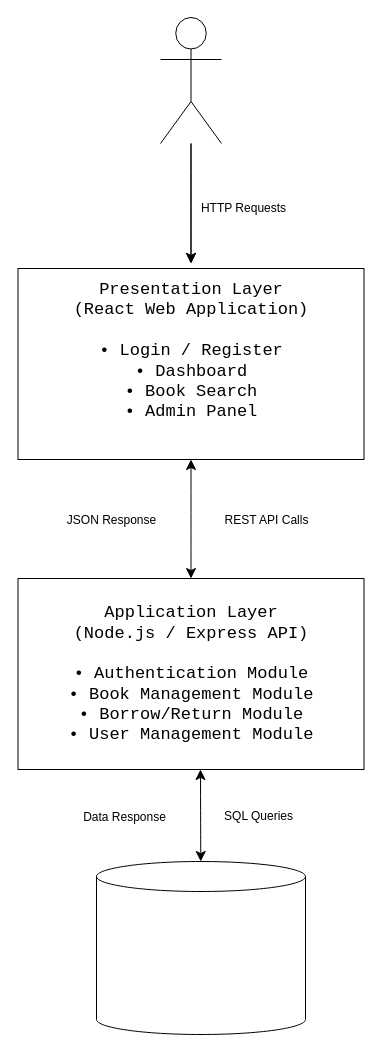
The diagram is 381 pixels wide and 1052 high, and some of its shapes have lost their labels. The shapes that lost their labels are listed below. From the top down, each one's centre as x and y in pixels, then its label:
At (x=191, y=80): "User".
At (x=201, y=947): "Data Layer (MySQL / PostgreSQL) • Users Table • Books Table • Transactions Table".
